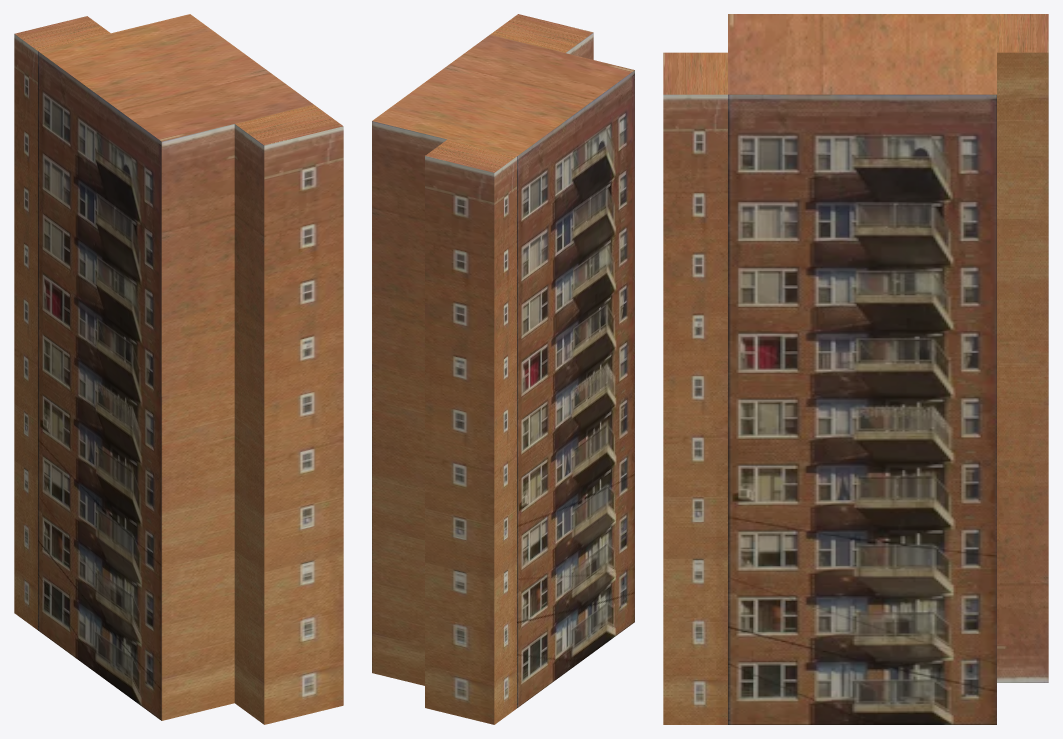
3 renders of one model, left to right at view 1: azimuth 30°, elevation 25°; view 2: azimuth 150°, elevation 25°; view 3: azimuth 270°, elevation 25°, orthographic. The views are drawn at different scales.
Visible parts, largest first — view 1: ny-low-4; view 2: ny-low-4; view 3: ny-low-4.
Part boxes in pixels (x1=…): ny-low-4: x1=14, y1=14, x2=343, y2=724; ny-low-4: x1=372, y1=14, x2=634, y2=724; ny-low-4: x1=663, y1=14, x2=1048, y2=724.
Bounding box in the file's own units: 27.82 × 101 × 56.07.
Materials: 1 (1 with a texture image).
